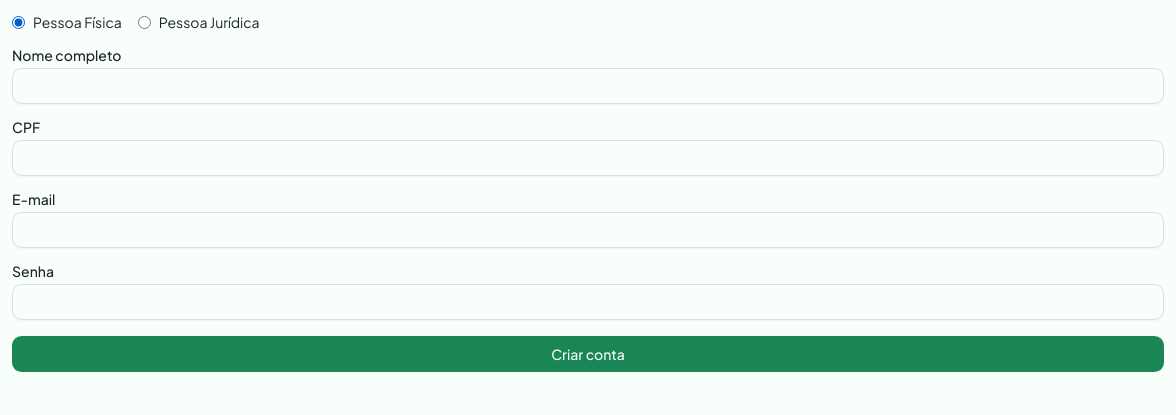
CadastroForm › rejeita CPF inválido
Type "Ana Maria" into the field labelled "Nome completo" at (588, 86), box [12,68,1164,104]
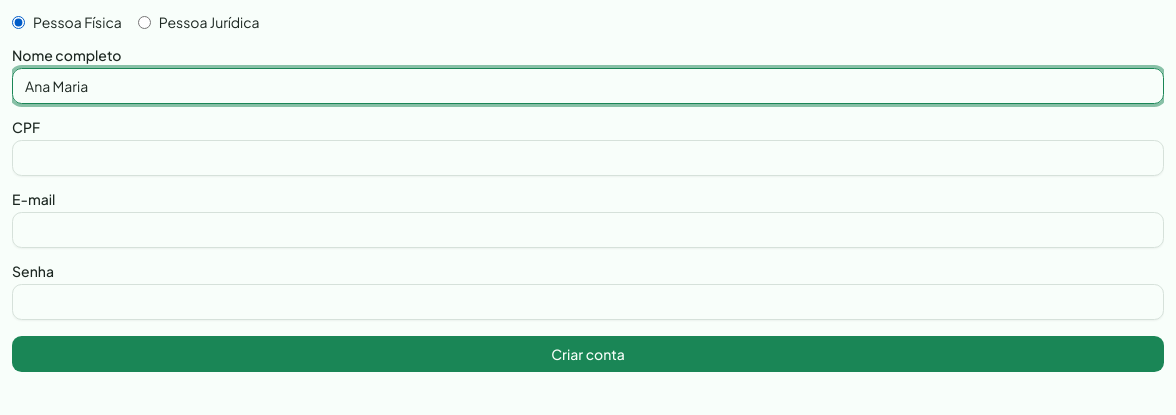
Type "111.111.111-11" into the field labelled "CPF" at (588, 158), box [12,140,1164,176]
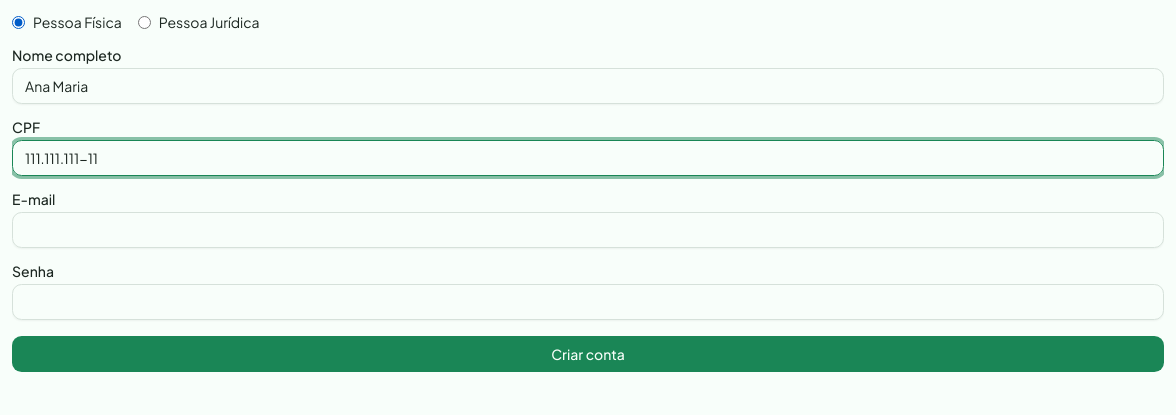
Type "ana@x.com" into the field labelled "E-mail" at (588, 230), box [12,212,1164,248]
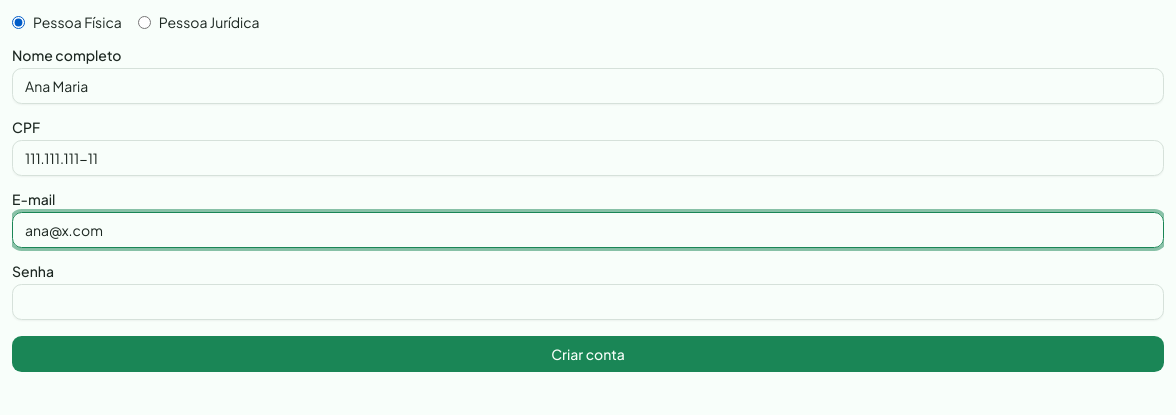
Type "Senha@123" into the password field labelled "Senha" at (588, 302), box [12,284,1164,320]
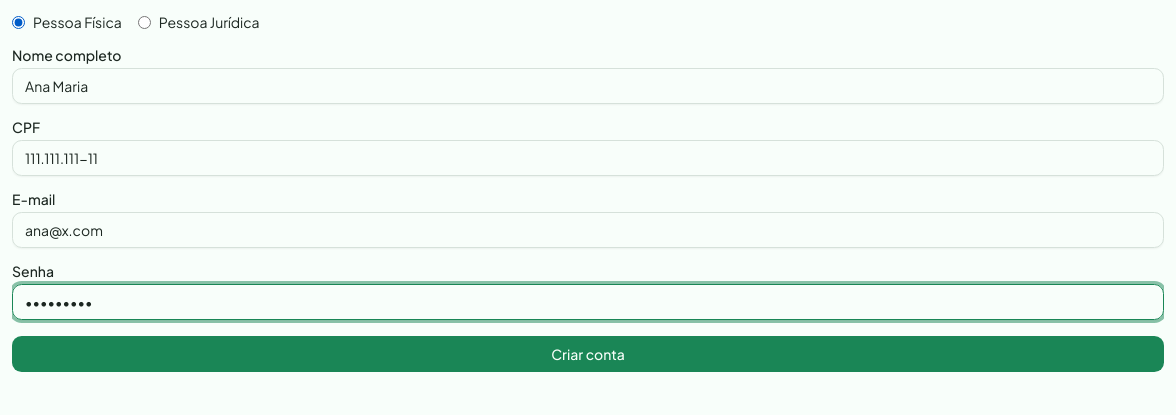
Click the button "Criar conta" at (588, 354), box [12,336,1164,372]
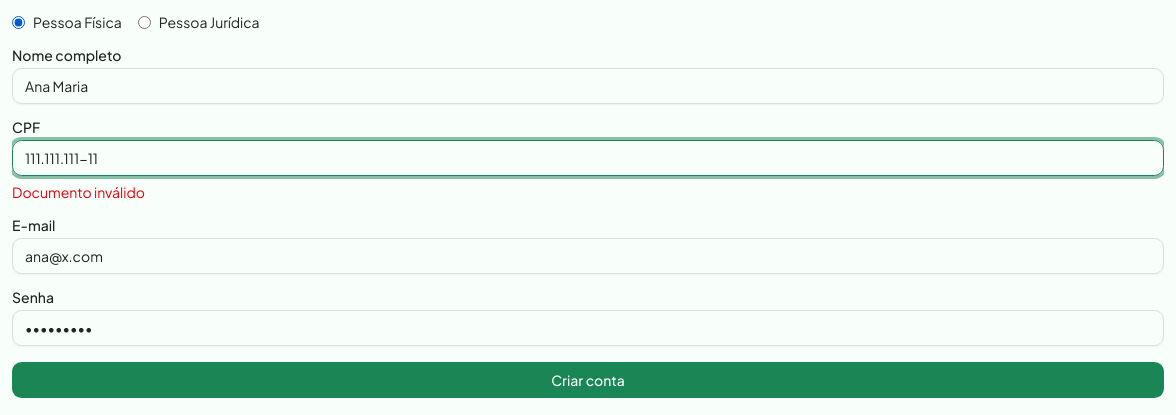
Now the text "Documento inválido" is shown, box [12,183,145,201]
